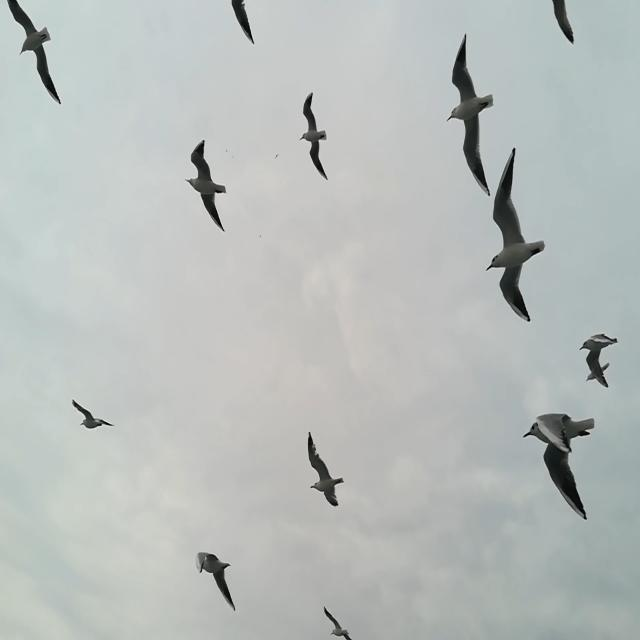bird: (486, 147, 546, 323), (523, 412, 596, 523), (445, 33, 494, 197), (6, 0, 62, 104), (184, 138, 226, 233), (306, 430, 345, 508), (299, 94, 329, 181), (195, 552, 237, 612), (580, 332, 618, 387), (71, 398, 116, 429), (552, 0, 575, 46), (231, 0, 255, 44), (324, 606, 353, 640), (585, 362, 610, 385), (274, 152, 279, 161)
